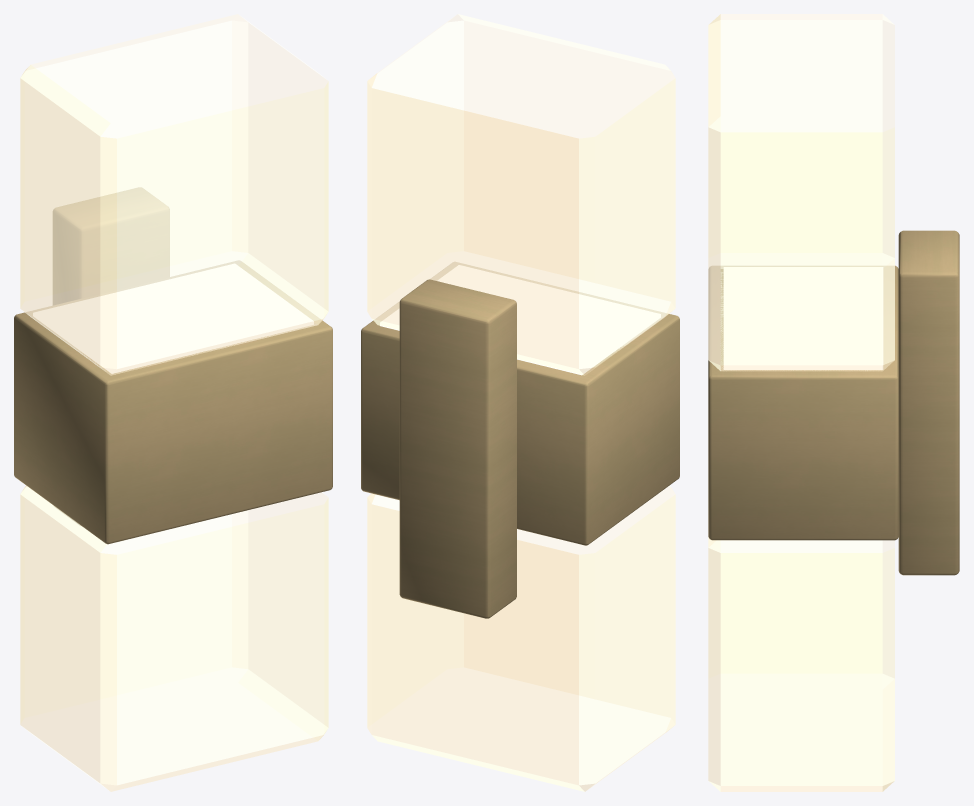
Rendered from rippled-crystal-up-down-wall-sconce.glb.
3 views of the same model, side by side, from view 1: azimuth 30°, elevation 25°; view 2: azimuth 150°, elevation 25°; view 3: azimuth 270°, elevation 25° (orthographic).
Visible parts, largest first — view 1: CrystalTop, CrystalBottom, Hub, LedTop, Backplate; view 2: CrystalTop, CrystalBottom, Backplate, Hub, LedTop; view 3: CrystalTop, CrystalBottom, Hub, Backplate, LedTop.
Boxes of the visible parts, x1,y1,x2,y2 form: CrystalTop: (20, 14, 328, 375); CrystalBottom: (20, 485, 328, 791); Hub: (14, 260, 332, 544); LedTop: (33, 263, 313, 373); Backplate: (53, 187, 169, 525); CrystalTop: (367, 14, 675, 375); CrystalBottom: (367, 485, 675, 791); Backplate: (399, 279, 516, 618); Hub: (361, 262, 679, 545); LedTop: (380, 265, 660, 375); CrystalTop: (708, 14, 894, 371); CrystalBottom: (708, 537, 894, 791); Hub: (708, 265, 898, 540); Backplate: (898, 230, 959, 575); LedTop: (723, 267, 883, 369).
Bounding box in the file's own units: 0.0889 × 0.2489 × 0.0838.
Materials: 4 (2 with a texture image).
